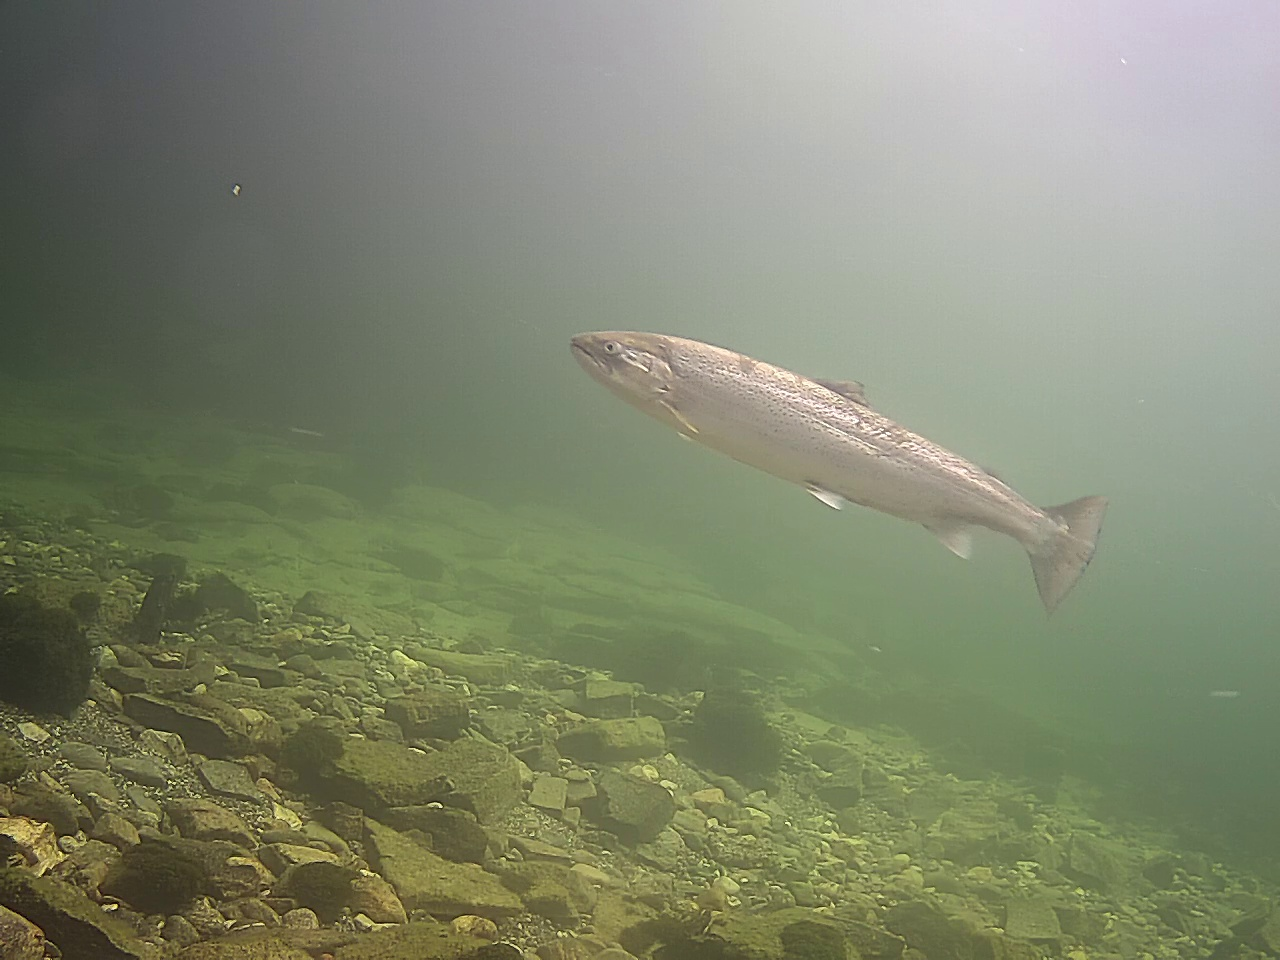salmon: (567, 328, 1107, 618)
